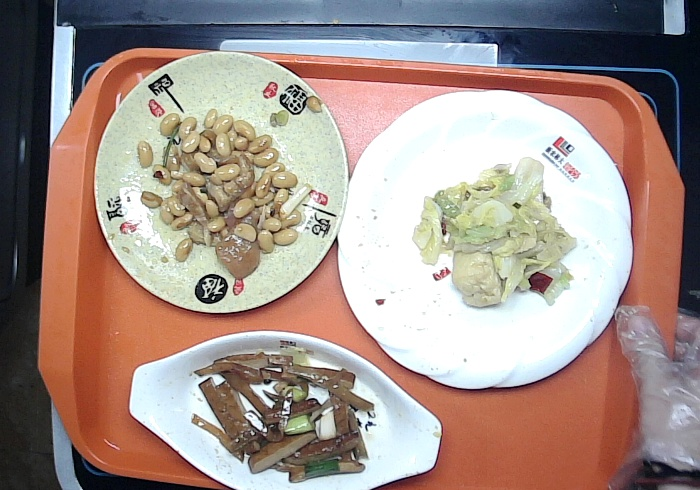NLDX-Bai_Zhe_Yuan_Pan: (334, 87, 636, 392)
NLDX-Fu_Zi_Yuan_Pan: (90, 49, 350, 318)
NLDX-Yu_Pan: (126, 328, 444, 490)
